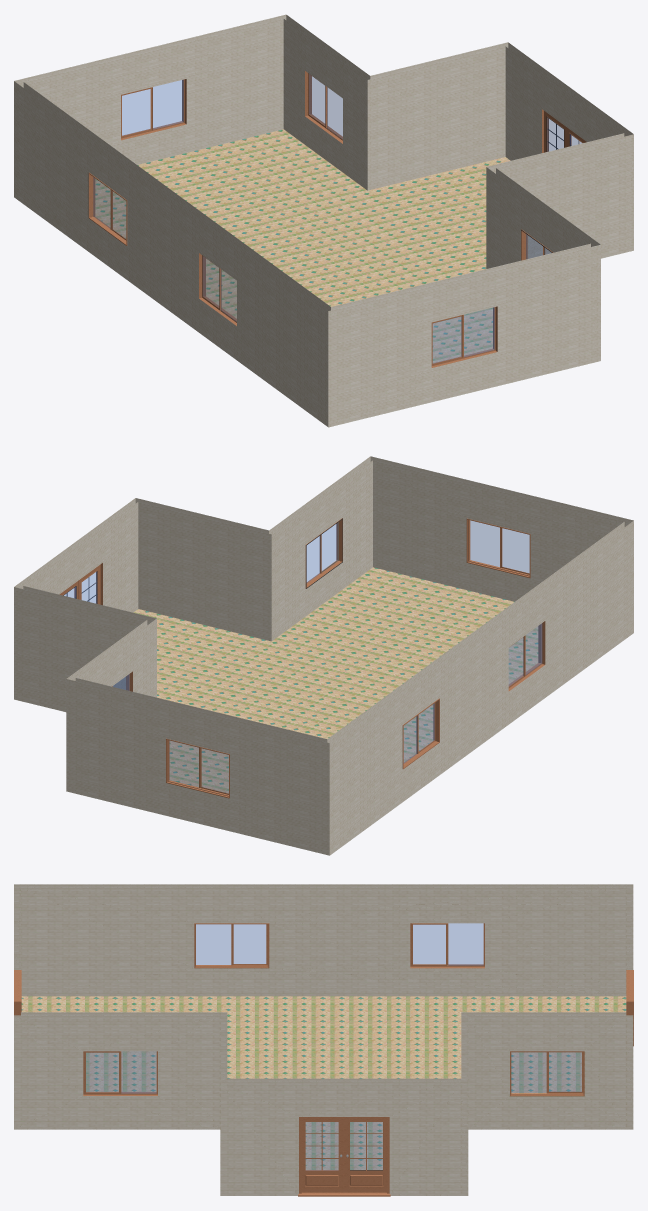
File: telhado35a.glb
The picture shows the model from 3 angles, top to bottom: view 1: azimuth 30°, elevation 25°; view 2: azimuth 150°, elevation 25°; view 3: azimuth 270°, elevation 25°; orthographic projection. The views are drawn at different scales.
Visible parts, largest first — view 1: object 2, root, object 4, object 3; view 2: object 2, root, object 4, object 3; view 3: object 2, root, object 4, object 3.
Boxes of the visible parts, x1,y1,x2,y2 form: object 2: [14, 14, 633, 427]; root: [95, 116, 578, 362]; object 4: [93, 74, 581, 363]; object 3: [88, 71, 586, 367]; object 2: [14, 456, 633, 855]; root: [63, 518, 538, 793]; object 4: [64, 520, 541, 793]; object 3: [59, 518, 545, 798]; object 2: [14, 884, 633, 1195]; root: [21, 996, 626, 1170]; object 4: [86, 923, 581, 1170]; object 3: [14, 923, 633, 1196].
Bounding box in the file's own units: 11.34 × 3.06 × 15.01.
11 materials, 4 textured.
